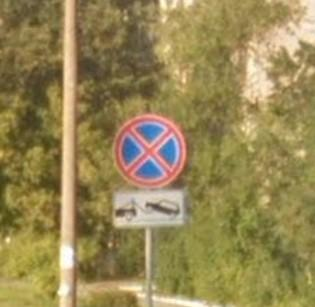No Parking: (112, 112, 189, 192)
